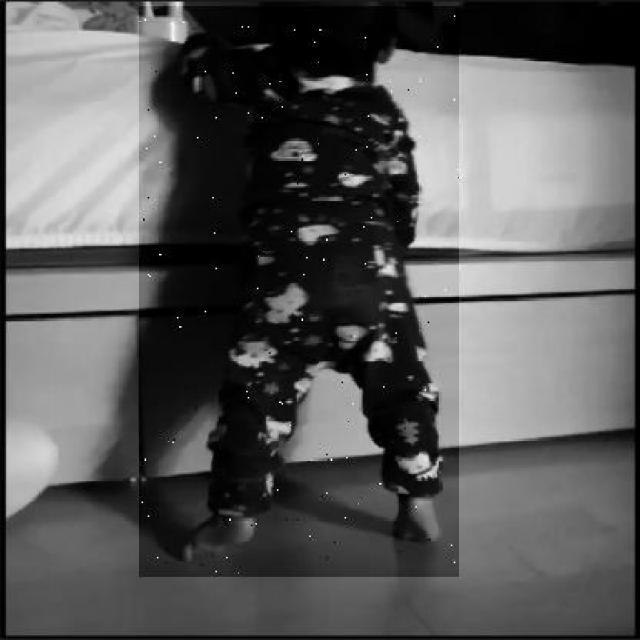child: (140, 6, 460, 577)
